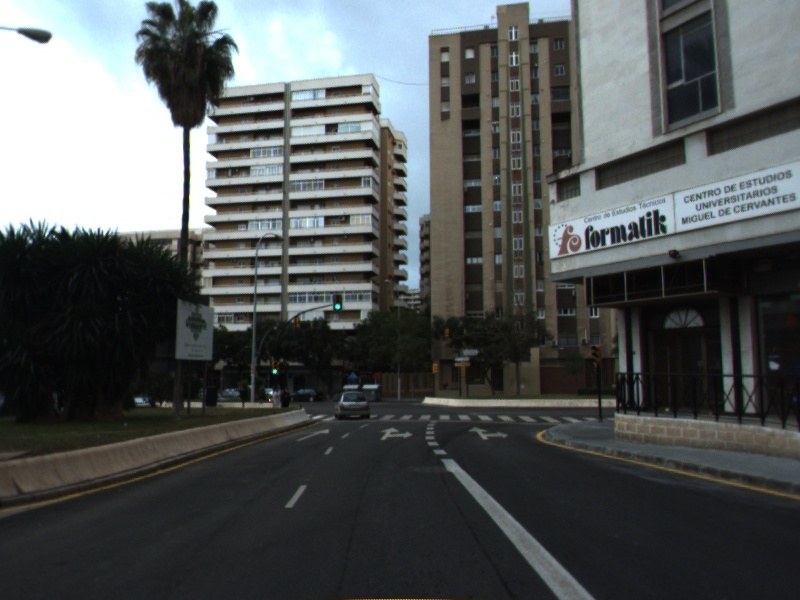STRAIGHT: (293, 426, 332, 443)
STRAIGHT_RIGHT: (465, 424, 511, 442), (377, 425, 416, 442)
